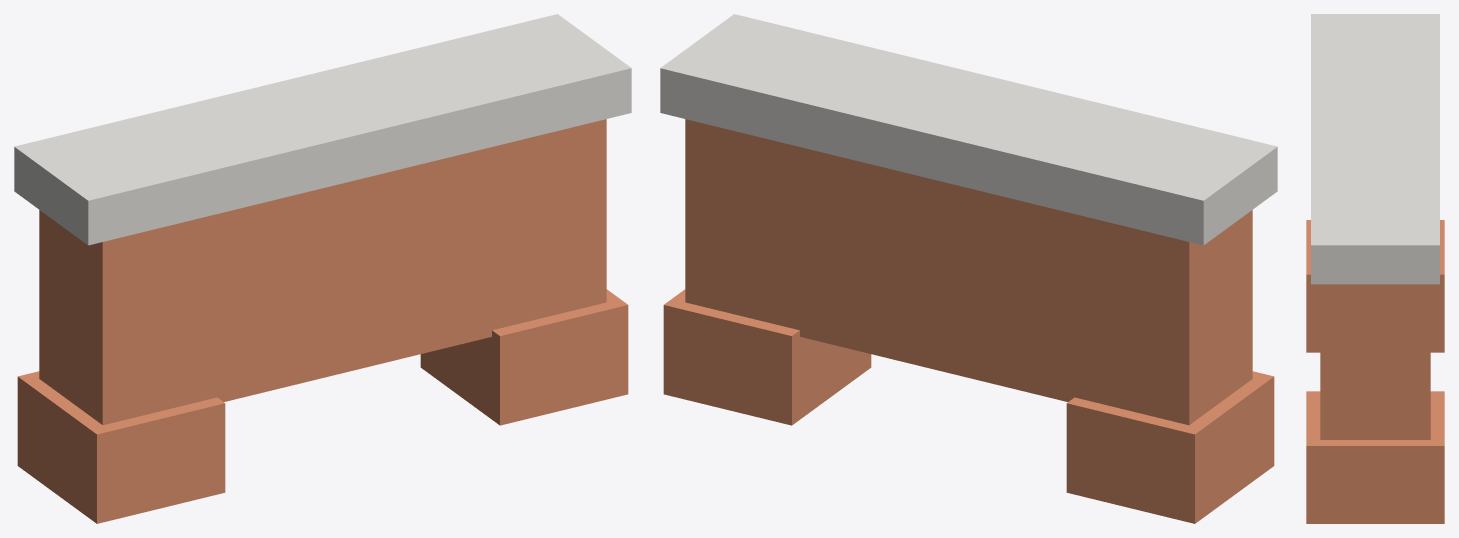
3 views of the same model, side by side, from view 1: azimuth 30°, elevation 25°; view 2: azimuth 150°, elevation 25°; view 3: azimuth 270°, elevation 25° (orthographic). The views are drawn at different scales.
Parts seen in each view (by area): view 1: Body, Top, Foot.L, Foot.R; view 2: Body, Top, Foot.L, Foot.R; view 3: Top, Body, Foot.R, Foot.L.
Part boxes in pixels (bbox=[...]): Body: bbox=[39, 119, 606, 425]; Top: bbox=[14, 14, 631, 245]; Foot.L: bbox=[17, 371, 225, 523]; Foot.R: bbox=[420, 289, 628, 425]; Body: bbox=[685, 119, 1252, 425]; Top: bbox=[660, 14, 1277, 245]; Foot.L: bbox=[1066, 371, 1274, 523]; Foot.R: bbox=[663, 289, 871, 425]; Top: bbox=[1311, 14, 1439, 284]; Body: bbox=[1320, 284, 1430, 439]; Foot.R: bbox=[1306, 391, 1444, 523]; Foot.L: bbox=[1306, 220, 1444, 352].
Size of the model in its own units: 1.78 by 1.01 by 0.45.
